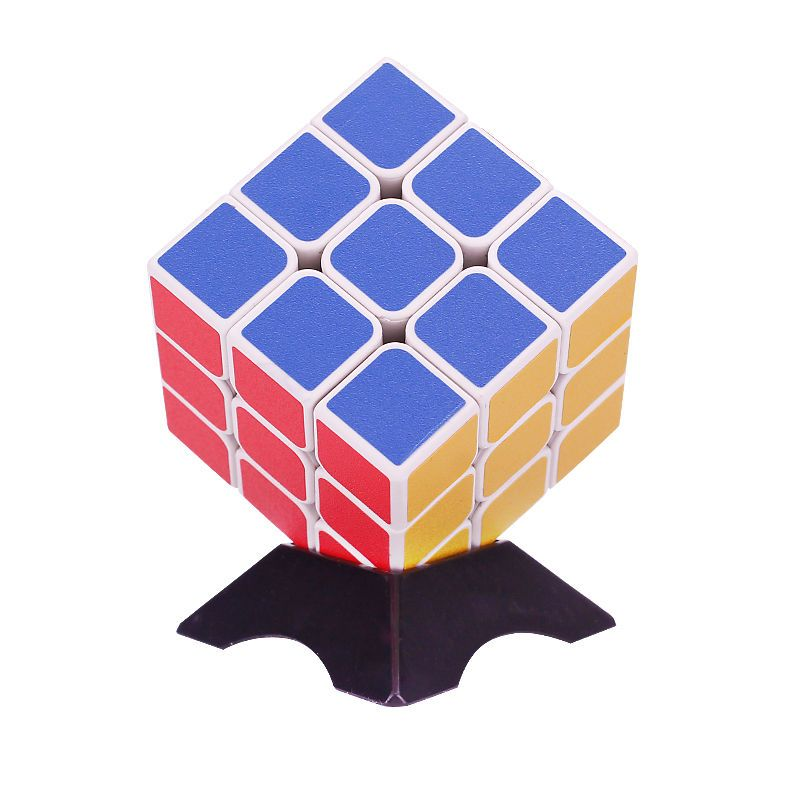cube: (143, 54, 644, 577)
